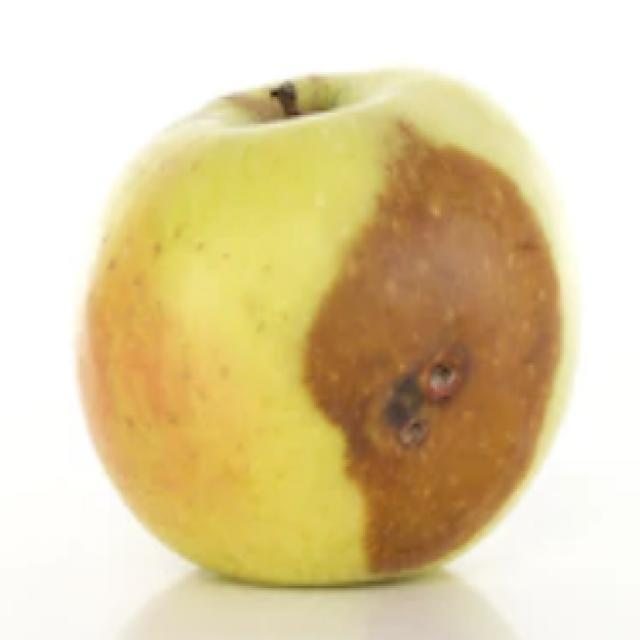Rotten: (75, 69, 565, 594)
